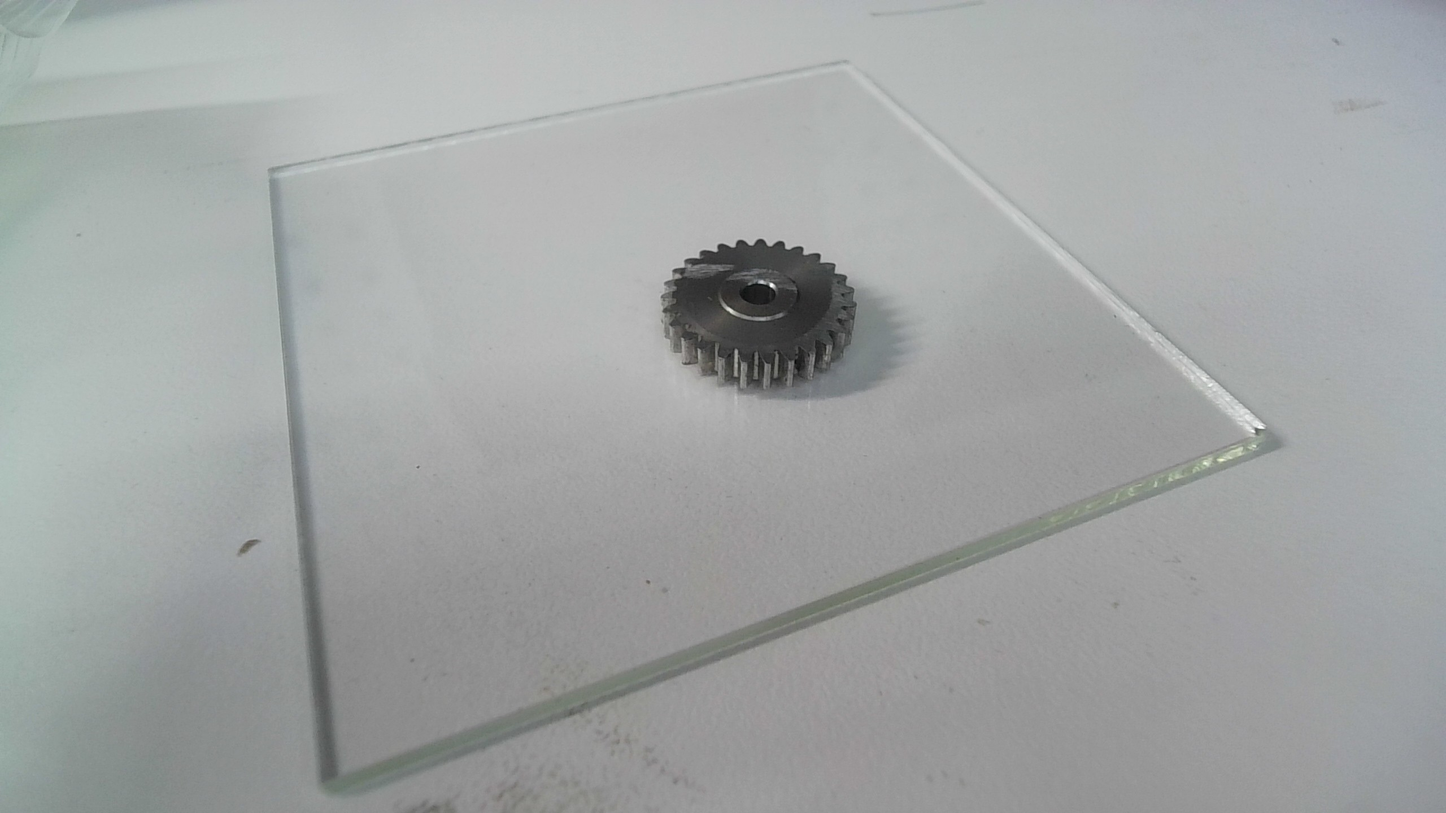gear: (657, 234, 860, 395)
